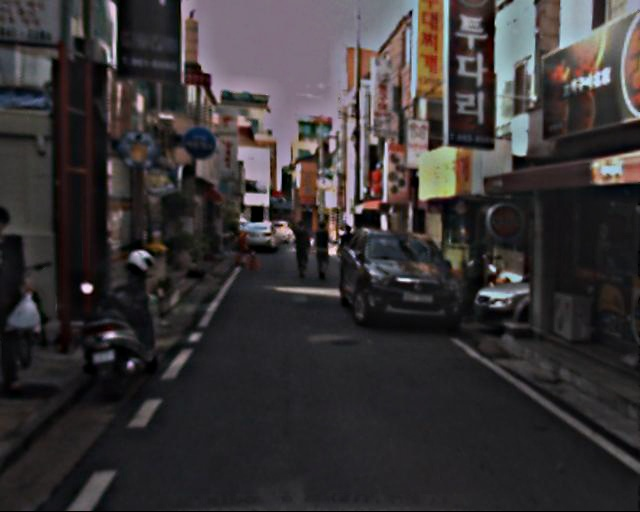person: (291, 220, 315, 279), (336, 224, 360, 283), (312, 222, 336, 280)
